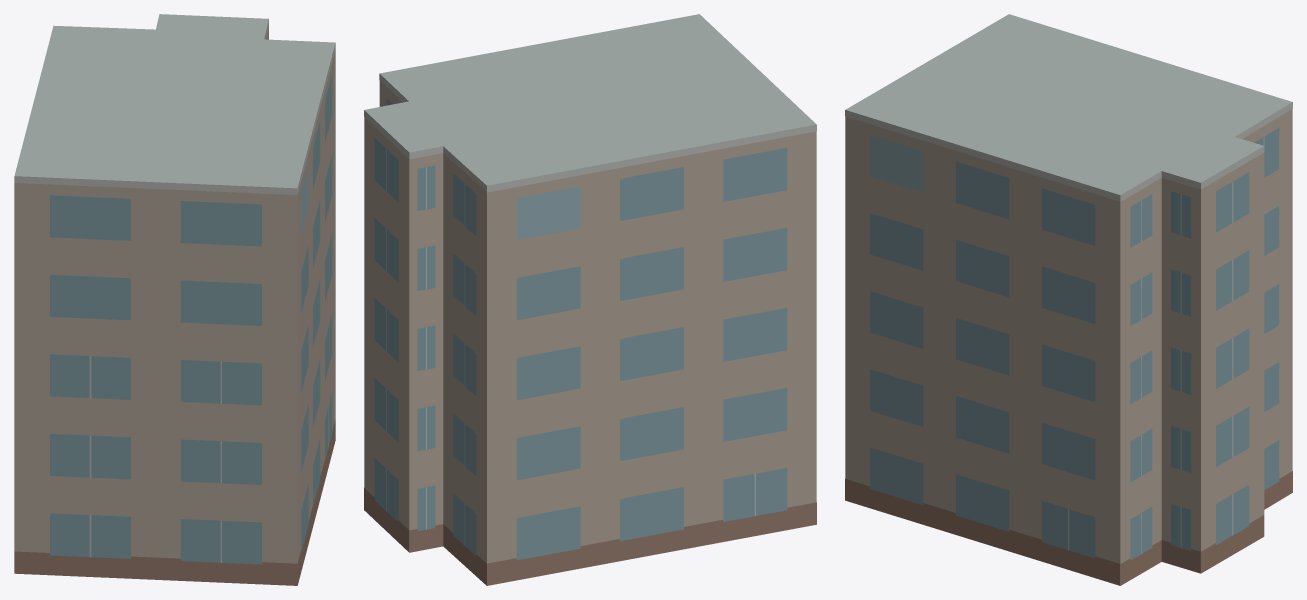
Rendered from survey-upis-32990043.glb.
The picture shows the model from 3 angles, left to right: view 1: azimuth 30°, elevation 25°; view 2: azimuth 150°, elevation 25°; view 3: azimuth 270°, elevation 25°; orthographic projection. The views are drawn at different scales.
Parts seen in each view (by area): view 1: survey-upis-32990043.tmp; view 2: survey-upis-32990043.tmp; view 3: survey-upis-32990043.tmp.
Part boxes in pixels (x1,y1,x2,y2): survey-upis-32990043.tmp: (14,14,335,585); survey-upis-32990043.tmp: (364,14,816,585); survey-upis-32990043.tmp: (845,14,1292,585).
Bounding box in the file's own units: 14.28 × 14.35 × 14.91.
